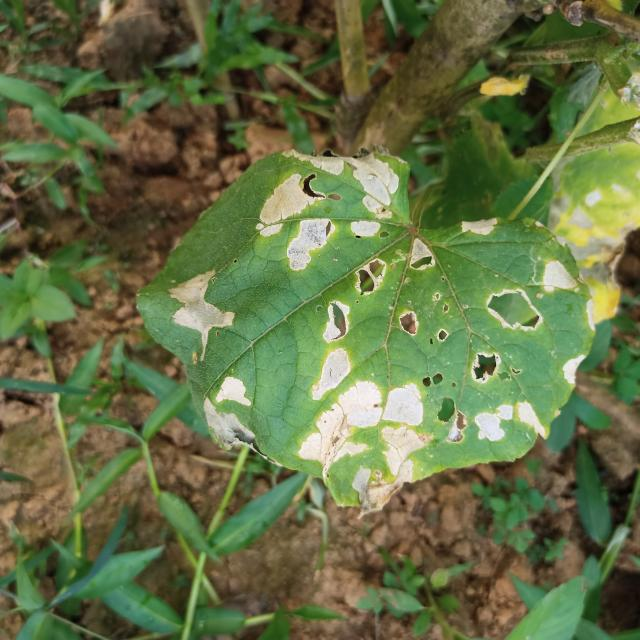disease_cucumber: (165, 146, 566, 502)
